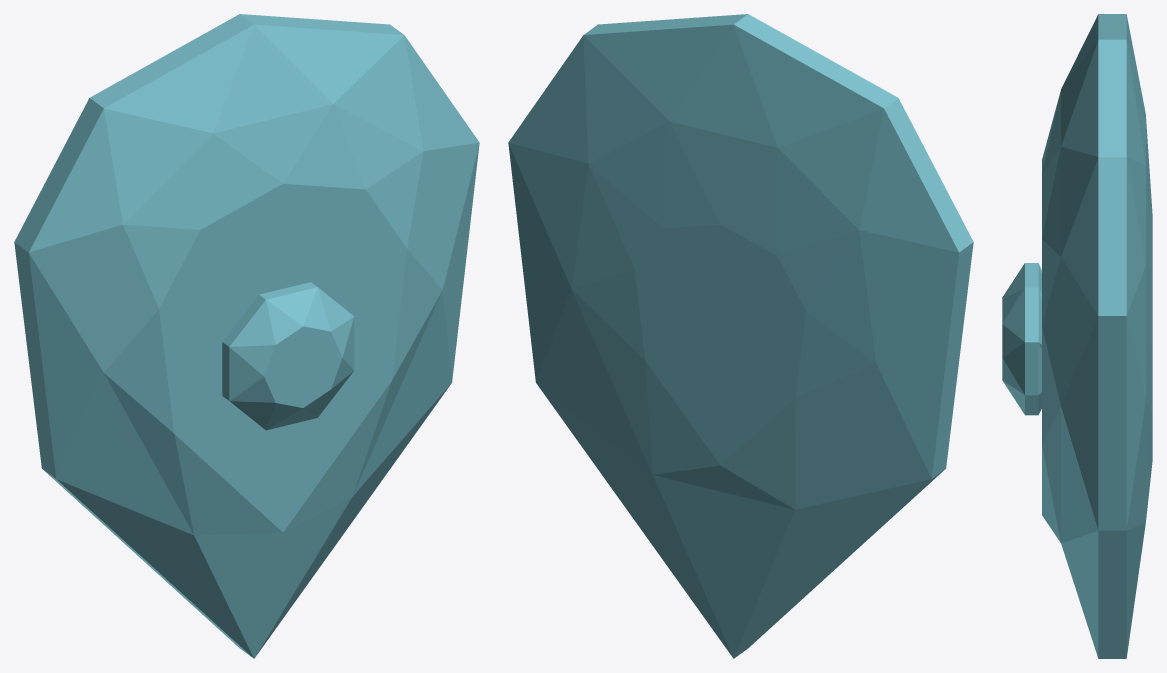
Rendered from Glass_Shield.glb.
3 renders of one model, left to right at view 1: azimuth 30°, elevation 25°; view 2: azimuth 150°, elevation 25°; view 3: azimuth 270°, elevation 25°, orthographic. The views are drawn at different scales.
Visible parts, largest first — view 1: Glass_Shield; view 2: Glass_Shield; view 3: Glass_Shield.
Part boxes in pixels (x1=…): Glass_Shield: x1=14, y1=14, x2=479, y2=658; Glass_Shield: x1=508, y1=14, x2=973, y2=658; Glass_Shield: x1=1002, y1=14, x2=1152, y2=658.
Size of the model in its own units: 0.9 by 1.21 by 0.266.
